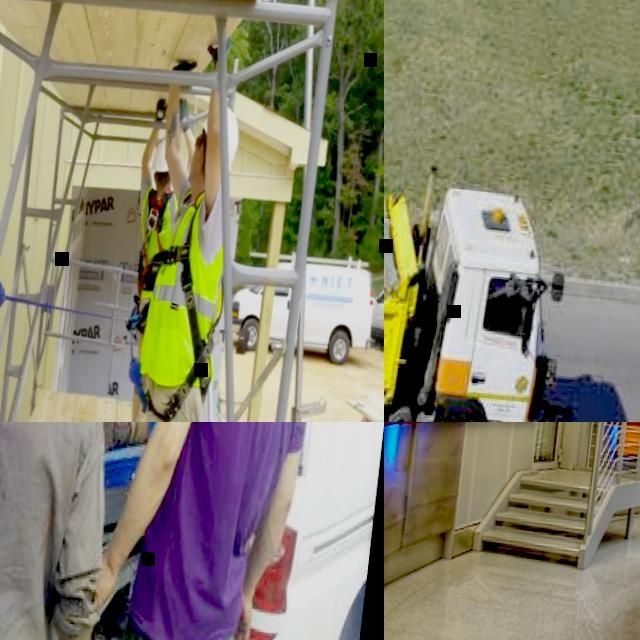Hardhat: (84, 422, 342, 640), (0, 422, 150, 640), (196, 104, 242, 176), (152, 138, 174, 173)
NO-Mask: (187, 140, 206, 184)
NO-Safety Vest: (132, 422, 301, 640), (0, 422, 81, 640)
Person: (116, 34, 250, 422), (106, 92, 200, 422)
Safety Vest: (138, 184, 233, 389), (132, 180, 181, 300)
machinery: (384, 139, 569, 422)
vehicle: (0, 422, 384, 640), (227, 247, 383, 369), (368, 280, 384, 350)
